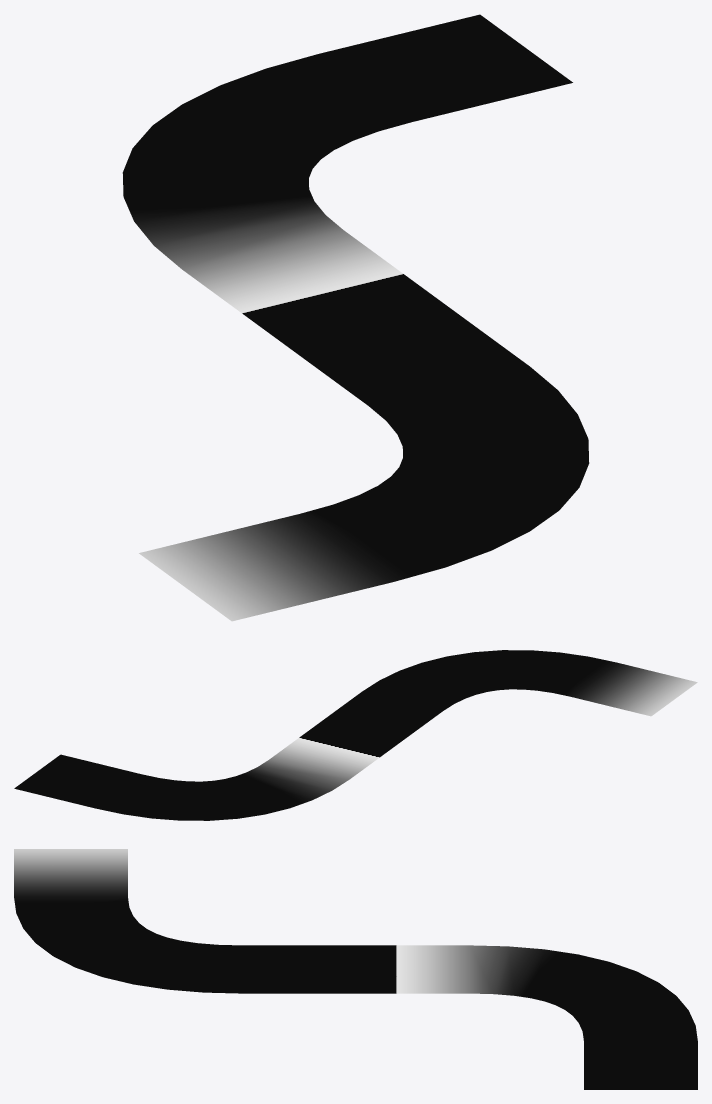
The model's file is Guide_A_01_S.fbx.
The picture shows the model from 3 angles, top to bottom: view 1: azimuth 30°, elevation 25°; view 2: azimuth 150°, elevation 25°; view 3: azimuth 270°, elevation 25°; orthographic projection. The views are drawn at different scales.
Parts seen in each view (by area): view 1: Guide_A_01_S; view 2: Guide_A_01_S; view 3: Guide_A_01_S.
Part boxes in pixels (left/top/right/bottom): Guide_A_01_S: left=122, top=14, right=589, bottom=621; Guide_A_01_S: left=14, top=650, right=697, bottom=820; Guide_A_01_S: left=14, top=849, right=697, bottom=1089.
Bounding box in the file's own units: 200 × 4.77e-07 × 240.
Materials: 1 (1 with a texture image).
